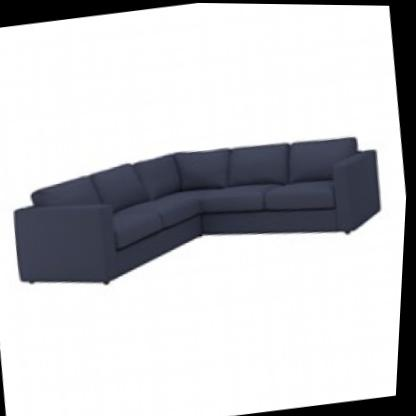Sofa: (0, 84, 400, 318)
